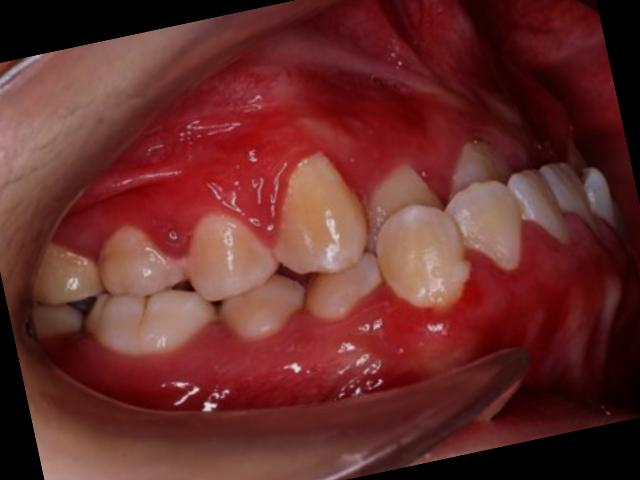canine class III 1/2: (252, 112, 479, 356)
